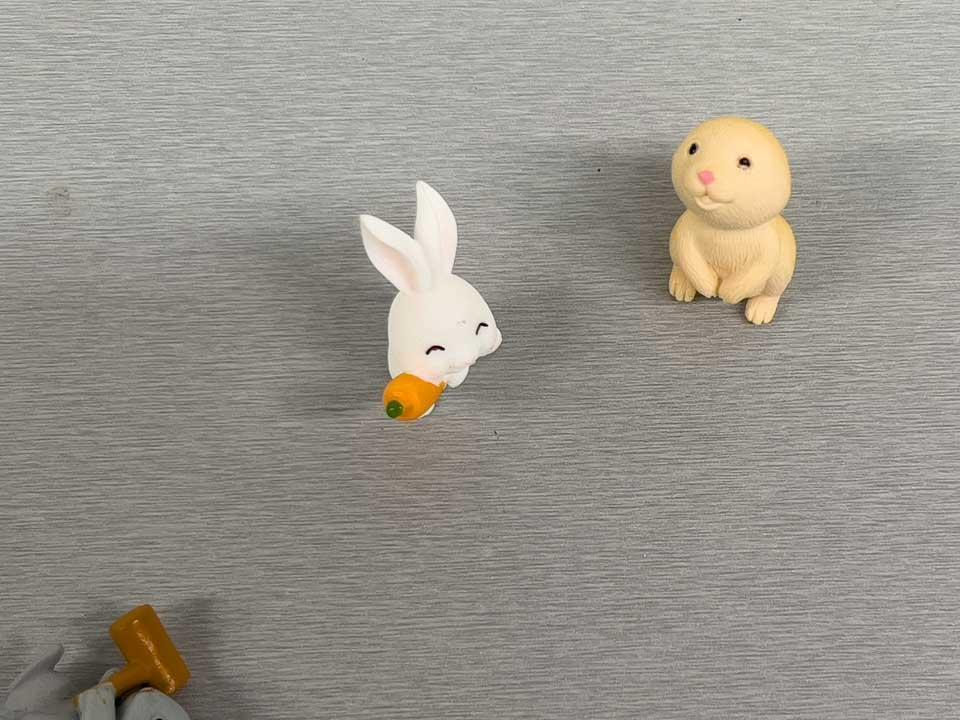pet: (356, 180, 506, 422), (664, 117, 795, 327), (0, 605, 189, 720)
